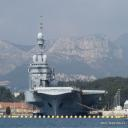Portanaves: (25, 2, 110, 118)
